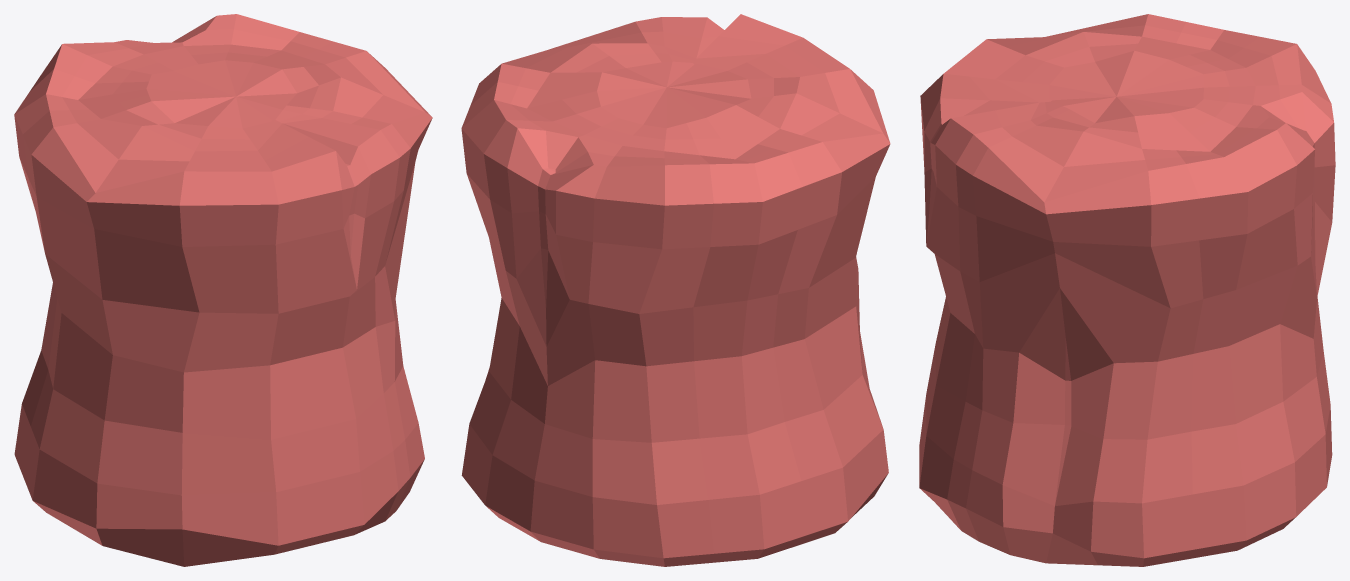
File: p1-Int.fbx
The picture shows the model from 3 angles, left to right: view 1: azimuth 30°, elevation 25°; view 2: azimuth 150°, elevation 25°; view 3: azimuth 270°, elevation 25°; orthographic projection. The views are drawn at different scales.
Parts seen in each view (by area): view 1: Cylinder; view 2: Cylinder; view 3: Cylinder.
Part boxes in pixels (x1,y1,x2,y2): Cylinder: [14, 14, 432, 566]; Cylinder: [461, 14, 890, 566]; Cylinder: [919, 14, 1335, 566].
Bounding box in the file's own units: 198 × 211 × 194.
